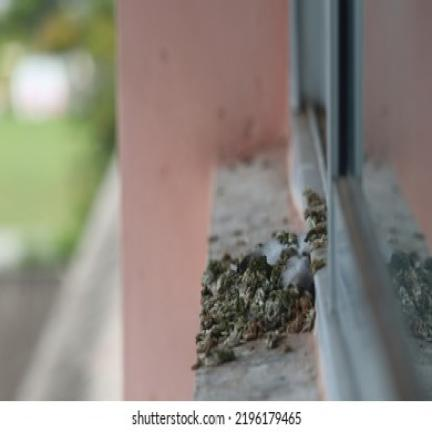besi_tidak_karat: (0, 2, 125, 400), (208, 143, 305, 268)
